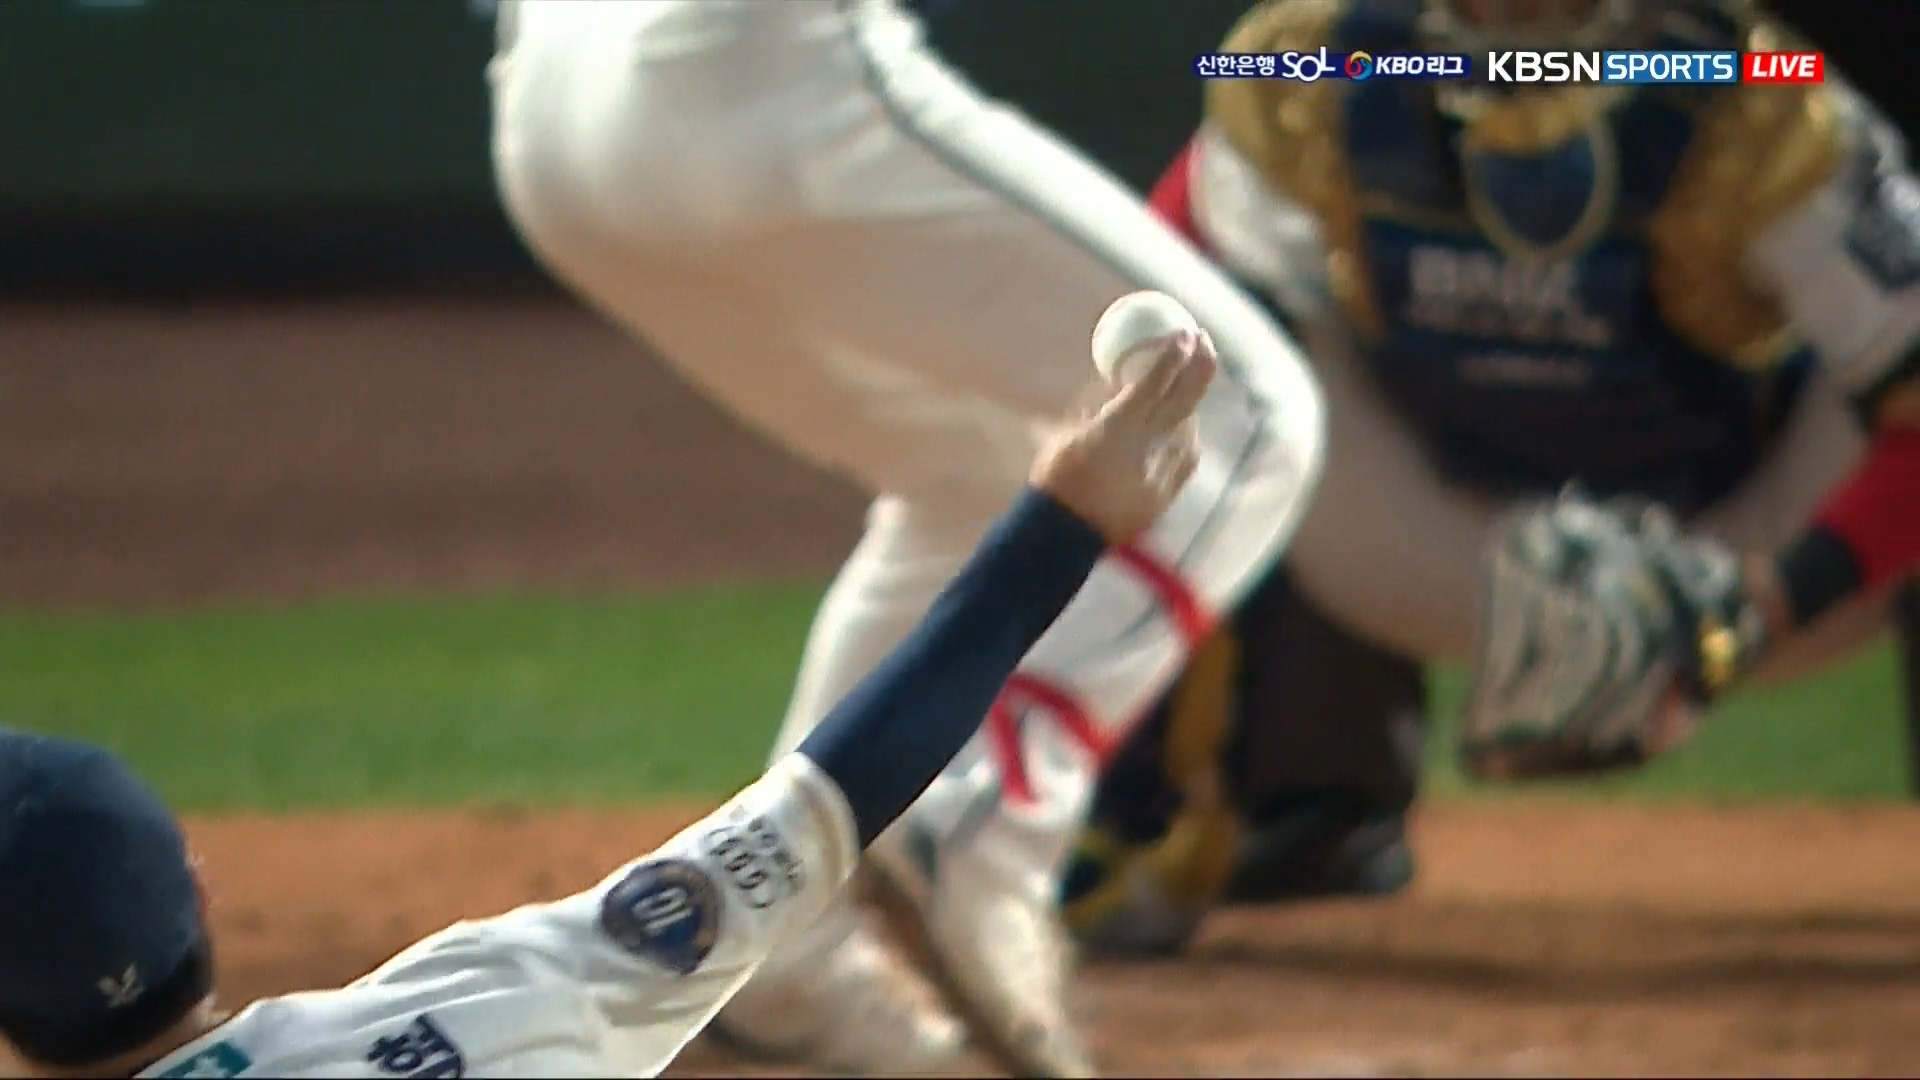zoomin_hand: (771, 265, 1244, 847)
